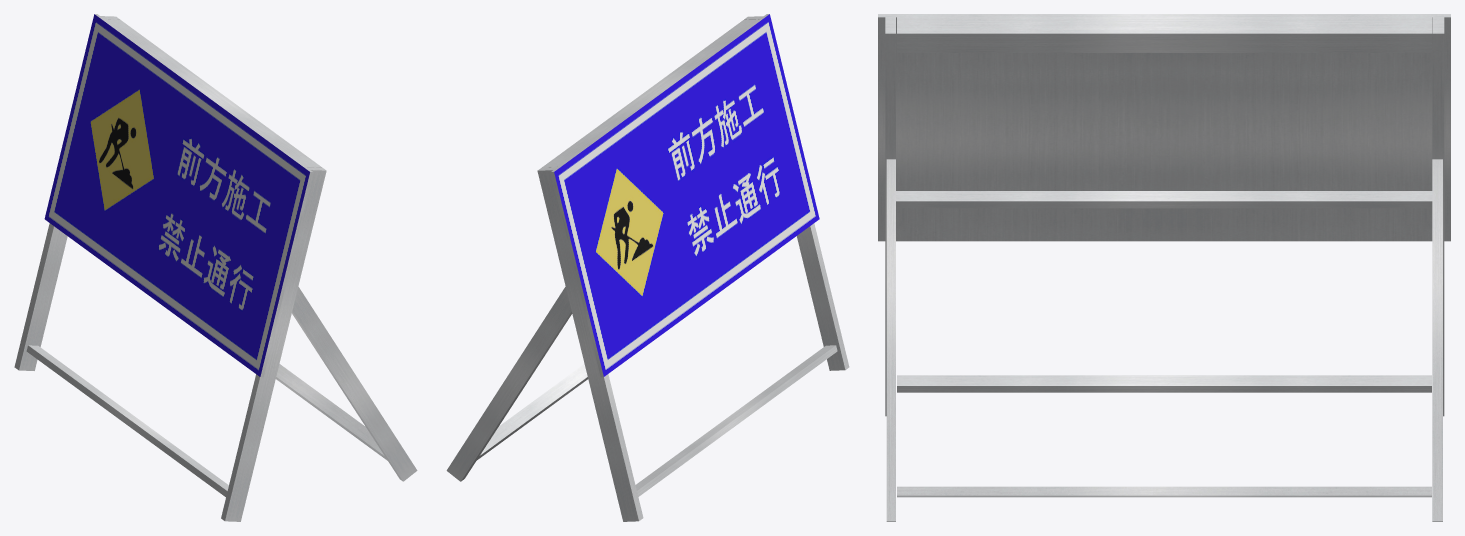
The model's file is RoadWorkSign.FBX.
The picture shows the model from 3 angles, left to right: view 1: azimuth 30°, elevation 25°; view 2: azimuth 150°, elevation 25°; view 3: azimuth 270°, elevation 25°; orthographic projection. The views are drawn at different scales.
Parts seen in each view (by area): view 1: 前方道路施工标志; view 2: 前方道路施工标志; view 3: 前方道路施工标志.
Boxes of the visible parts, x1,y1,x2,y2 form: 前方道路施工标志: (14,14,417,521); 前方道路施工标志: (446,14,849,521); 前方道路施工标志: (878,14,1450,521).
Size of the model in its own units: 0.9 by 1.5 by 1.74.
Materials: 2 (2 with a texture image).
